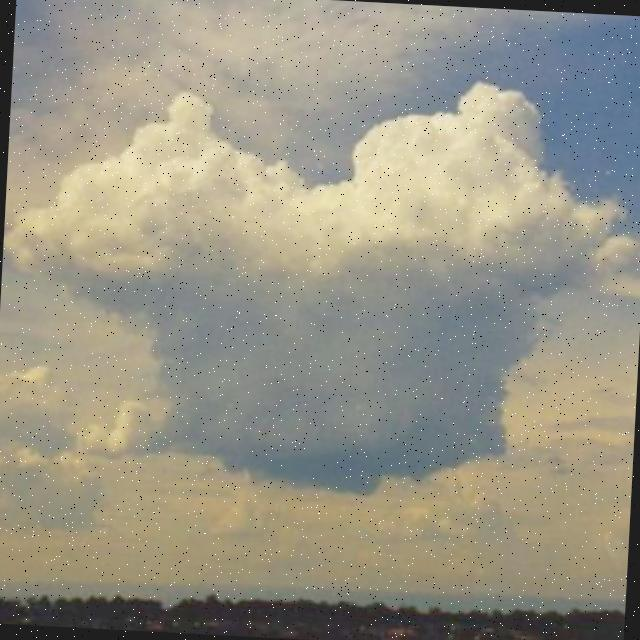Cu: (1, 53, 638, 524)
